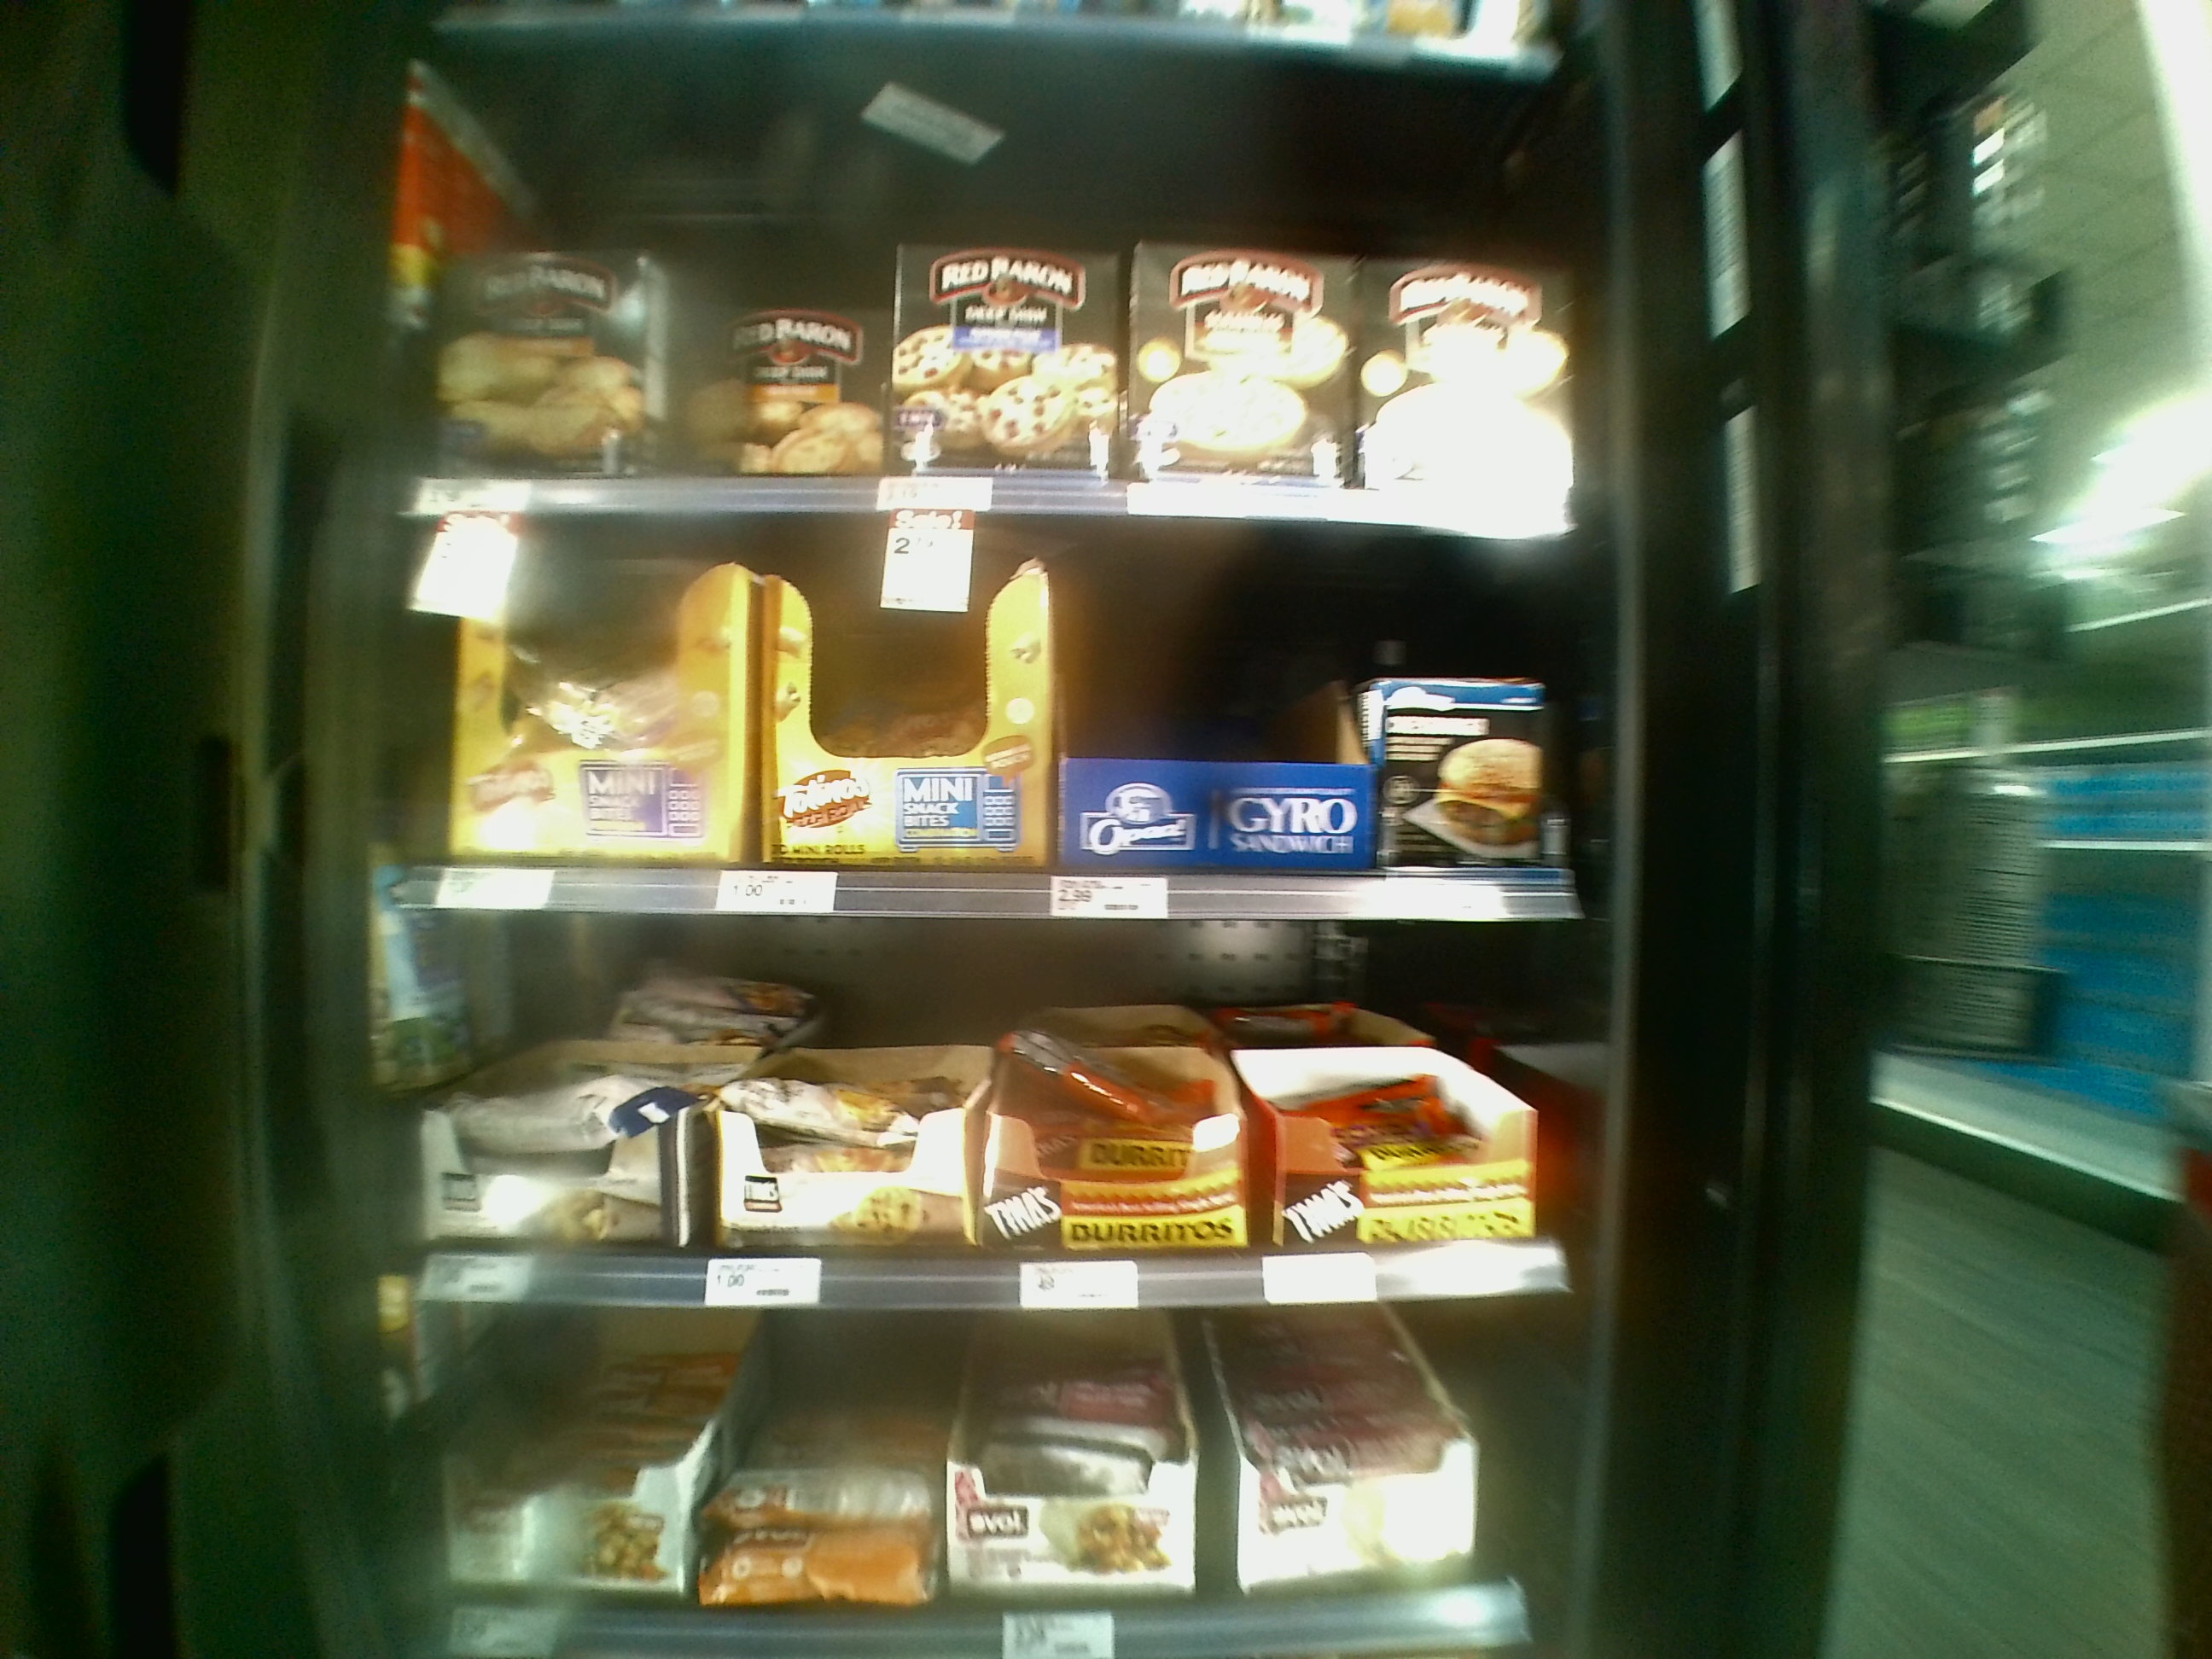shelf: (413, 33, 1554, 528), (418, 518, 1566, 915), (408, 913, 1571, 1298), (418, 1295, 1561, 1656)
